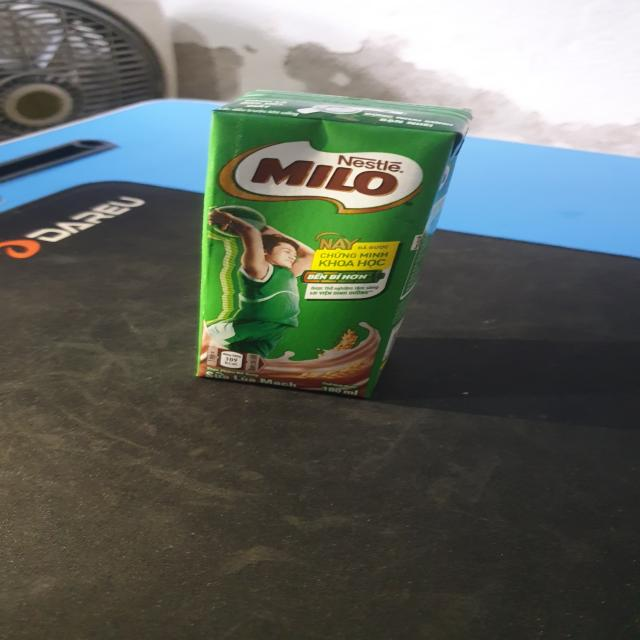Milo: (187, 85, 478, 401)
